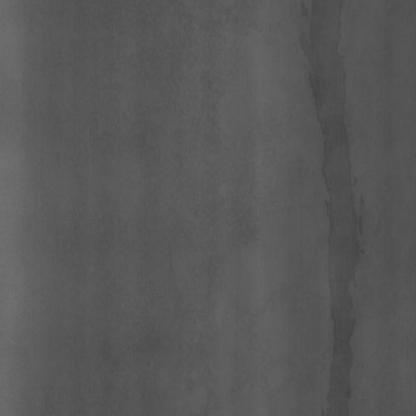water_spot: (299, 20, 366, 368)
